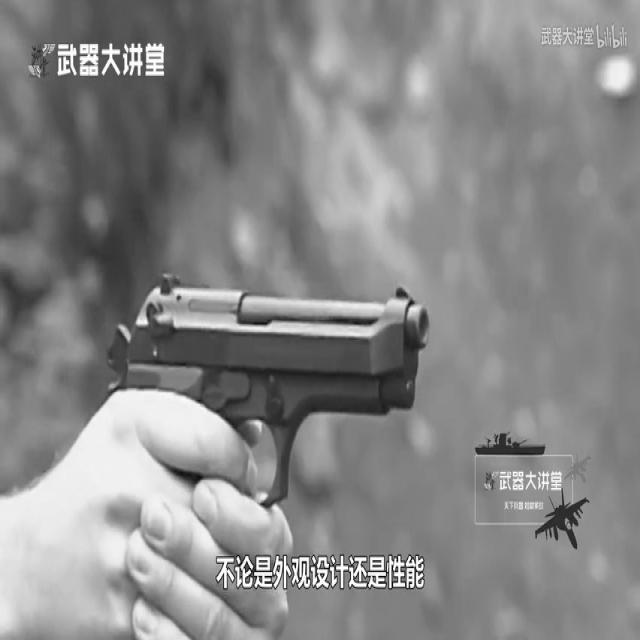Hand-Gun: (121, 256, 444, 560)
